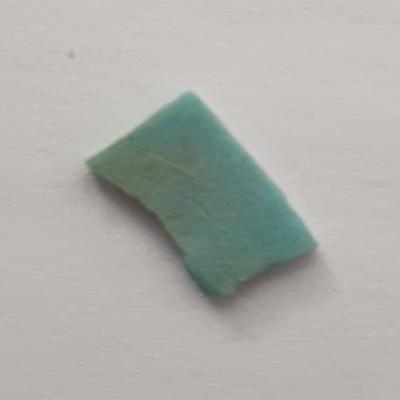plastic: (79, 86, 324, 311)
